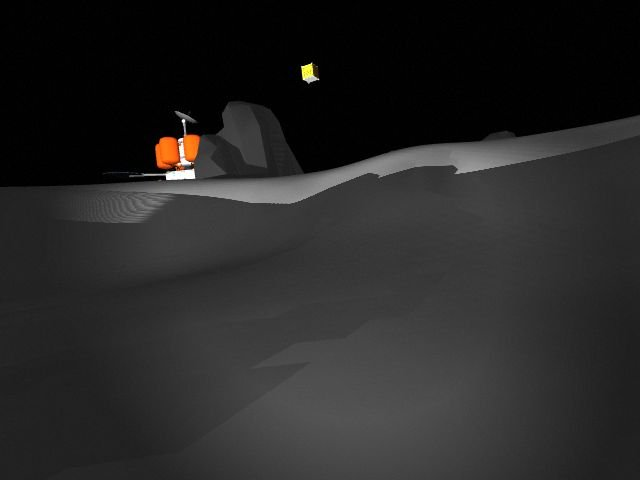cubesat: (297, 60, 325, 84)
